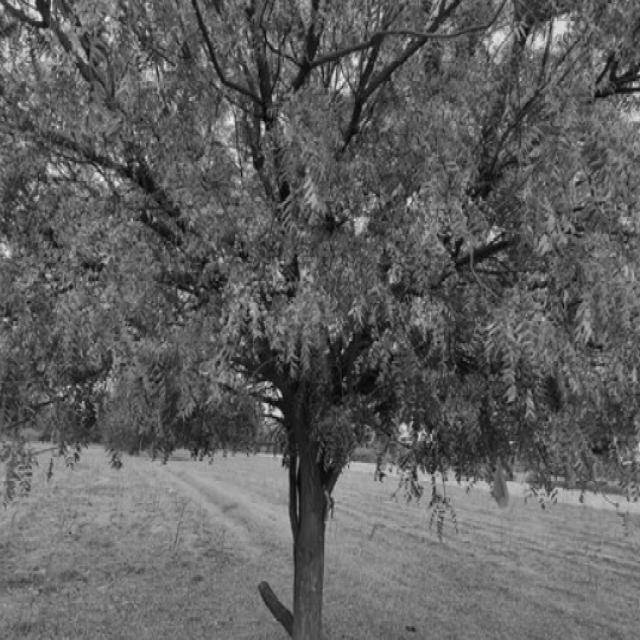Neem-Tree: (5, 6, 612, 446)
